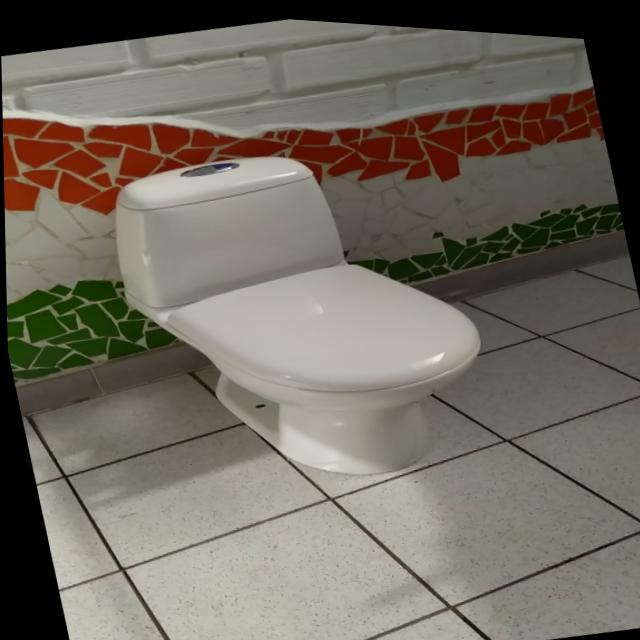toilet: (95, 108, 506, 517)
